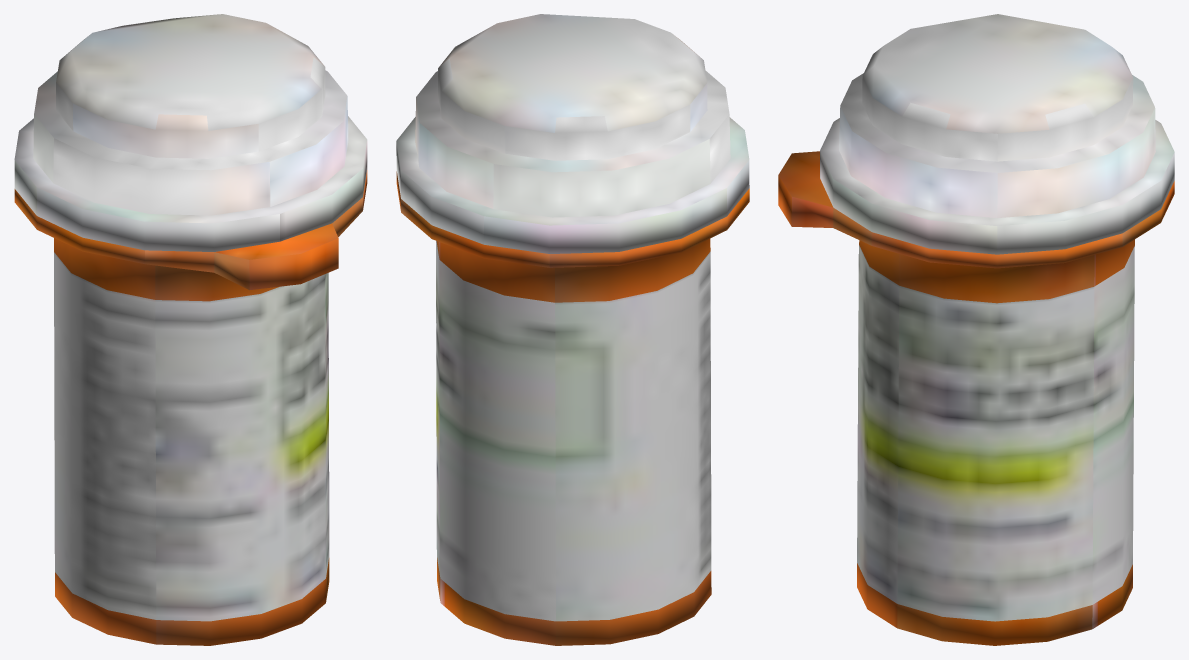
The model's file is pills.glb.
3 renders of one model, left to right at view 1: azimuth 30°, elevation 25°; view 2: azimuth 150°, elevation 25°; view 3: azimuth 270°, elevation 25°, orthographic.
Parts seen in each view (by area): view 1: Cylinder.003_Material.023_0, Cylinder.002_Material.023_0; view 2: Cylinder.003_Material.023_0, Cylinder.002_Material.023_0; view 3: Cylinder.003_Material.023_0, Cylinder.002_Material.023_0.
Boxes of the visible parts, <box> form: Cylinder.003_Material.023_0: <box>14,170,367,645</box>; Cylinder.002_Material.023_0: <box>14,14,367,251</box>; Cylinder.003_Material.023_0: <box>396,171,749,645</box>; Cylinder.002_Material.023_0: <box>396,14,749,253</box>; Cylinder.003_Material.023_0: <box>778,151,1174,645</box>; Cylinder.002_Material.023_0: <box>820,14,1174,254</box>.
Bounding box in the file's own units: 0.0984 × 0.16 × 0.11.
1 material, 1 textured.
